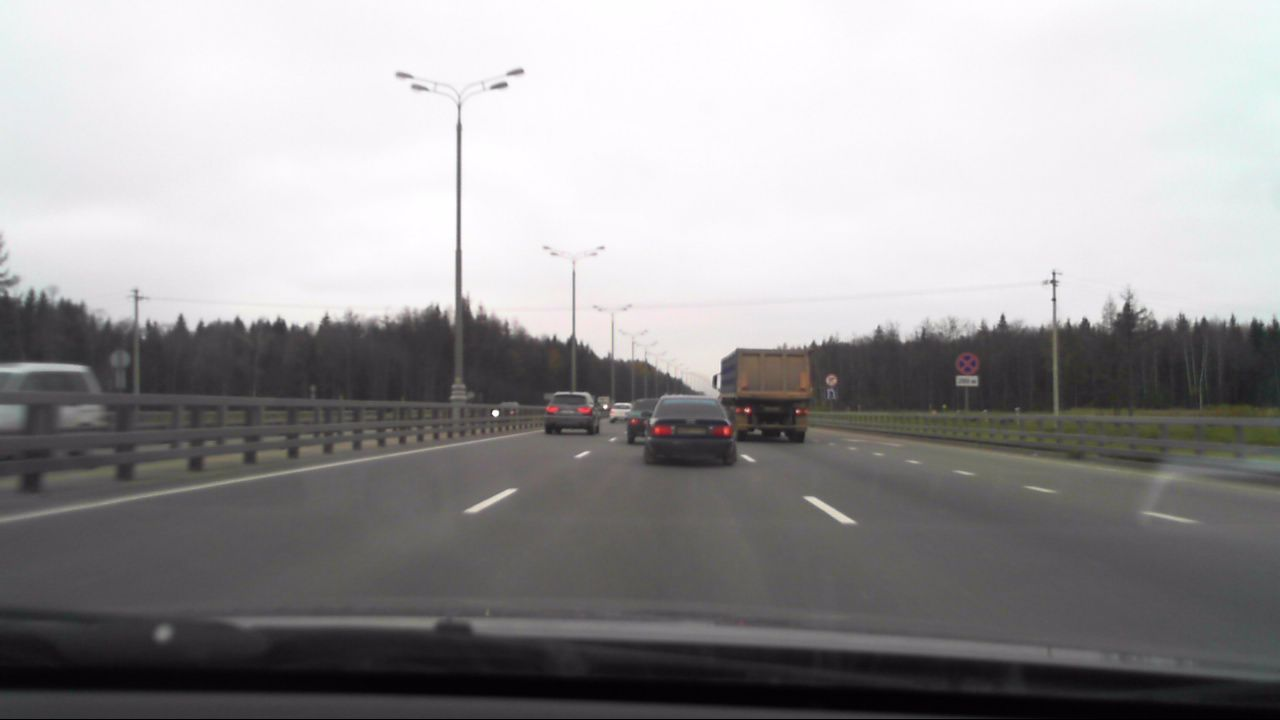No Parking: (954, 351, 980, 375)
